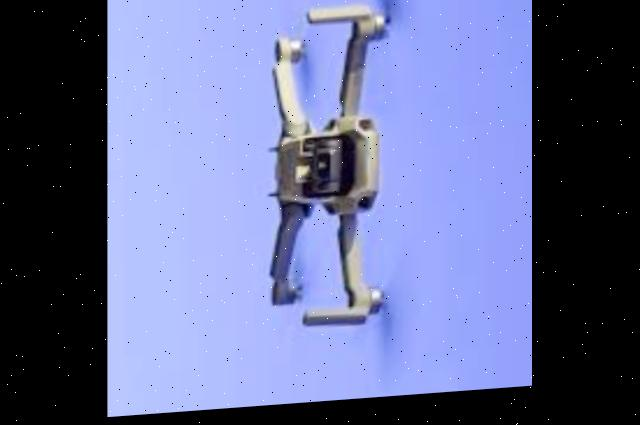drone: (248, 0, 420, 397)
